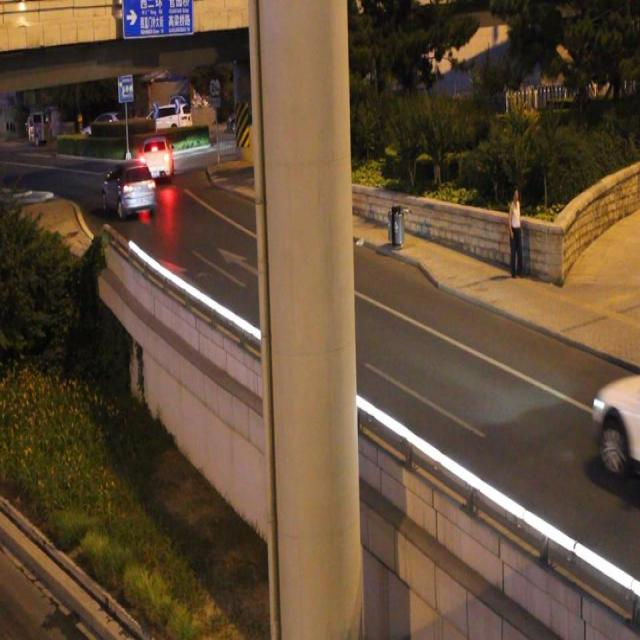car: (592, 358, 640, 485), (102, 161, 157, 218)
